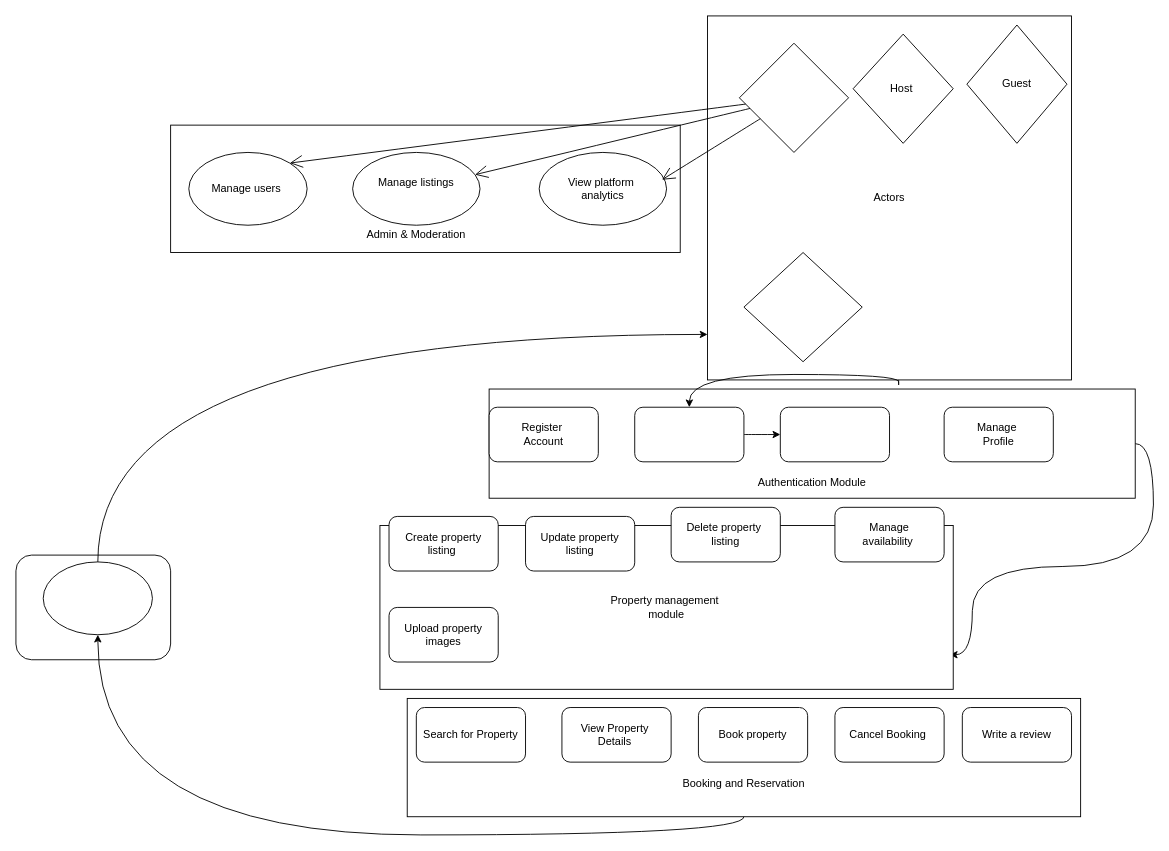
Image size: 1169x851. Some labels were removed from this diagram. The centre of each missing label's shape, as x and y in pixels:
"Admin" goes at (793,97).
"Login" goes at (689,434).
"Logout" goes at (834,434).
"Payment gateway External System" goes at (802,307).
"Process payment Payment Module" goes at (97,598).
